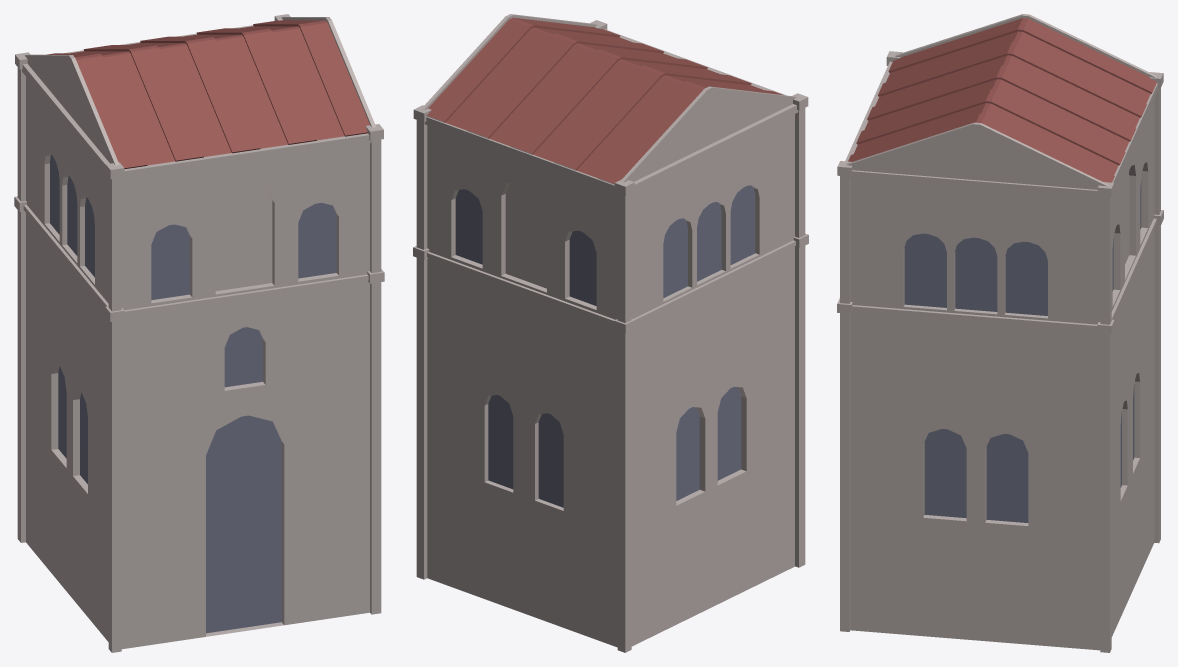
File: building_2.glb
3 renders of one model, left to right at view 1: azimuth 30°, elevation 25°; view 2: azimuth 150°, elevation 25°; view 3: azimuth 270°, elevation 25°, orthographic. The views are drawn at different scales.
Visible parts, largest first — view 1: Cube.1081; view 2: Cube.1081; view 3: Cube.1081.
Part boxes in pixels (<box>): Cube.1081: <box>14,14,384,652</box>; Cube.1081: <box>413,14,808,652</box>; Cube.1081: <box>837,14,1163,652</box>.
Bounding box in the file's own units: 0.1536 × 0.2683 × 0.1538.
